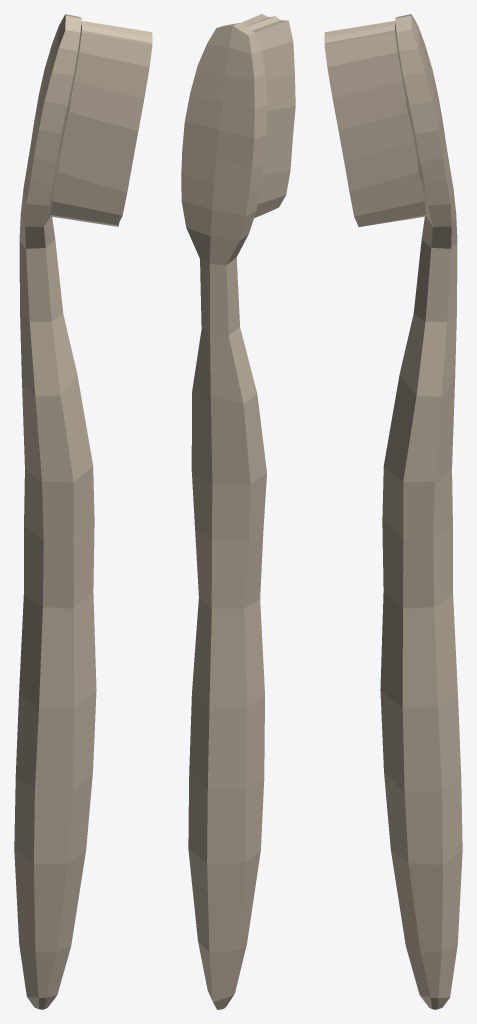
Rendered from toothbrushe_25_L.fbx.
3 views of the same model, side by side, from view 1: azimuth 90°, elevation 25°; view 2: azimuth 150°, elevation 25°; view 3: azimuth 270°, elevation 25° (orthographic).
Visible parts, largest first — view 1: toothbrushe_25_L; view 2: toothbrushe_25_L; view 3: toothbrushe_25_L.
Part boxes in pixels (x1,y1,x2,y2): toothbrushe_25_L: [14, 14, 152, 1009]; toothbrushe_25_L: [181, 14, 295, 1009]; toothbrushe_25_L: [324, 14, 462, 1009].
Bounding box in the file's own units: 0.3437 × 4.48 × 0.5653.
